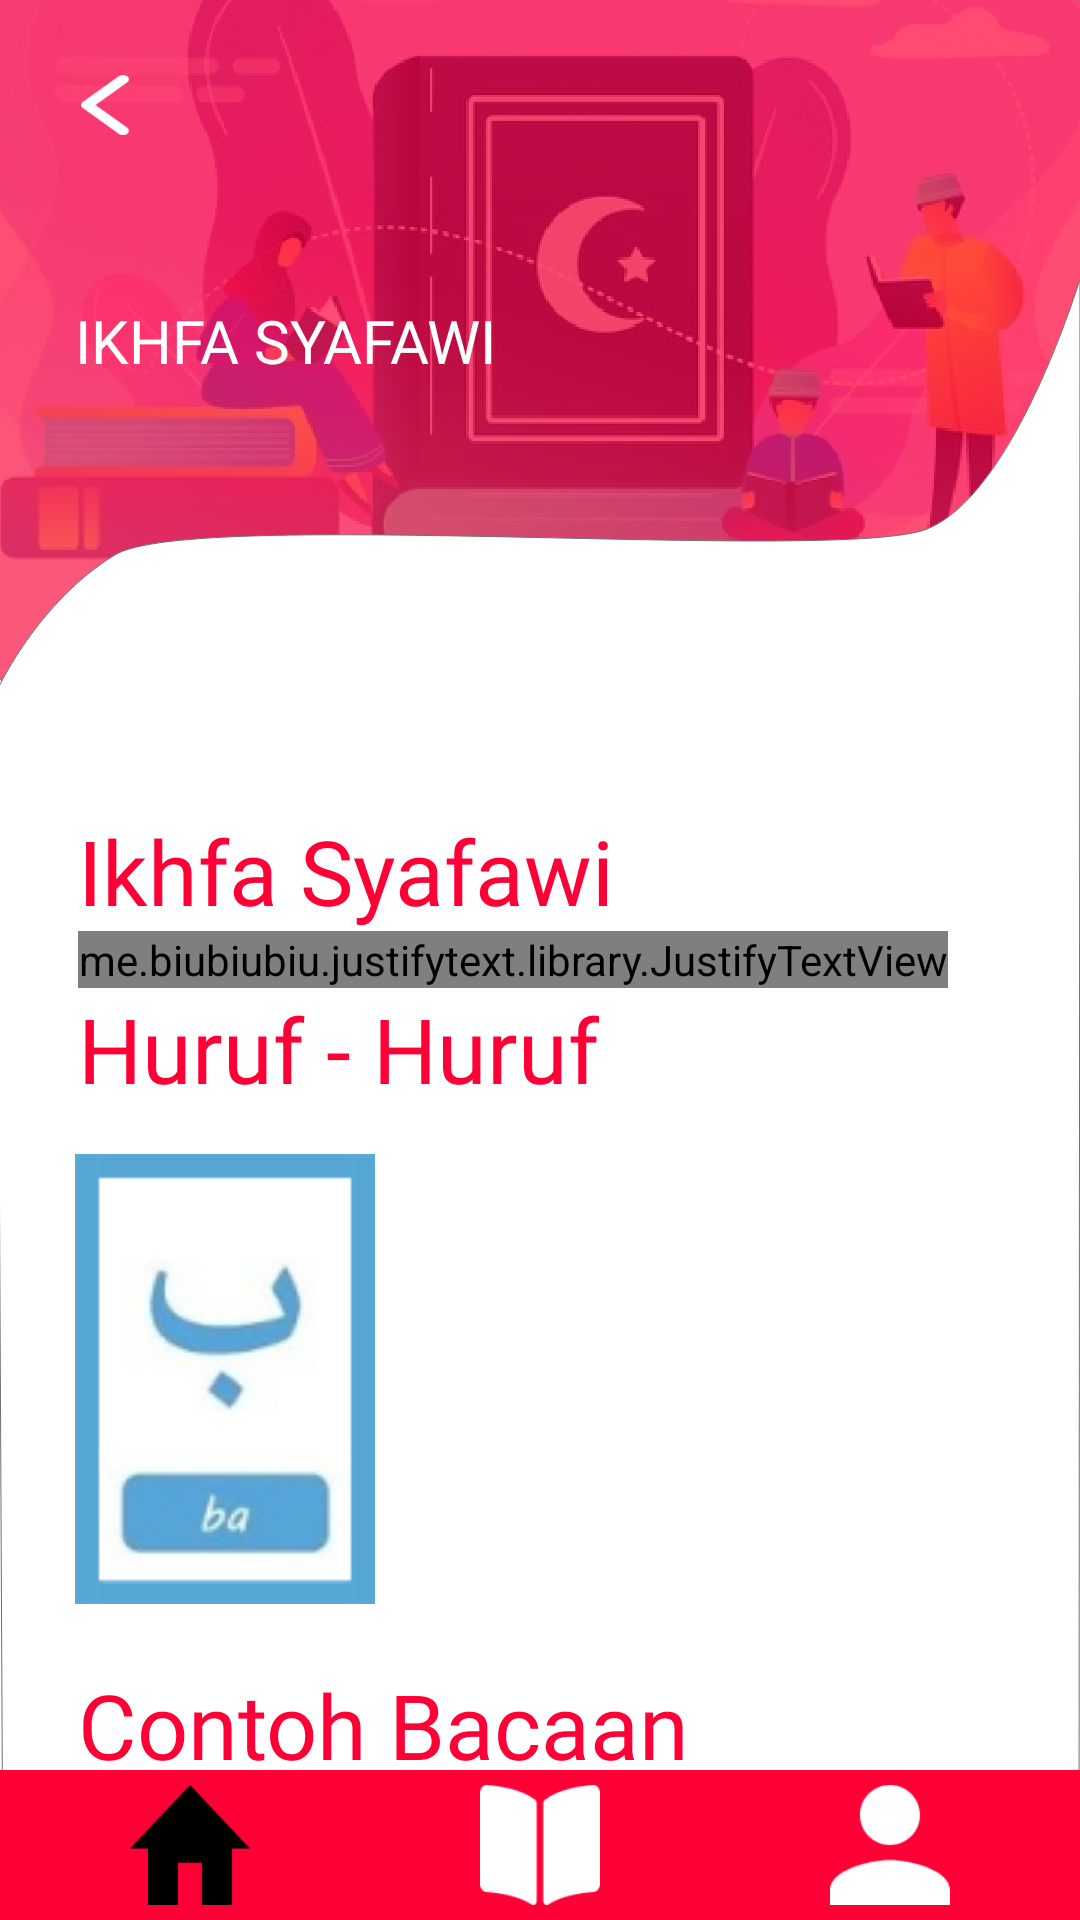

Named icons in this screenshot (1080px×1920px) and their bounding boxes, region(x1, y1, x2, y2):
akun: region(830, 1785, 950, 1905)
back: region(81, 75, 129, 135)
home: region(130, 1785, 250, 1905)
